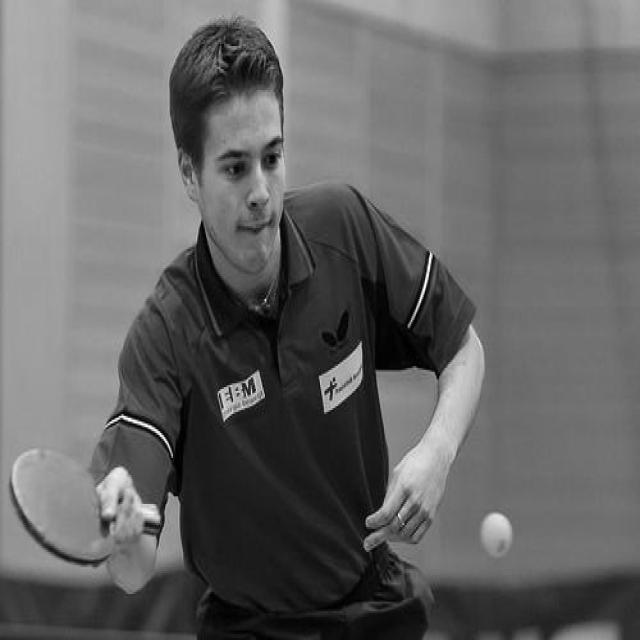ping-pong-ball: (481, 511, 513, 558)
